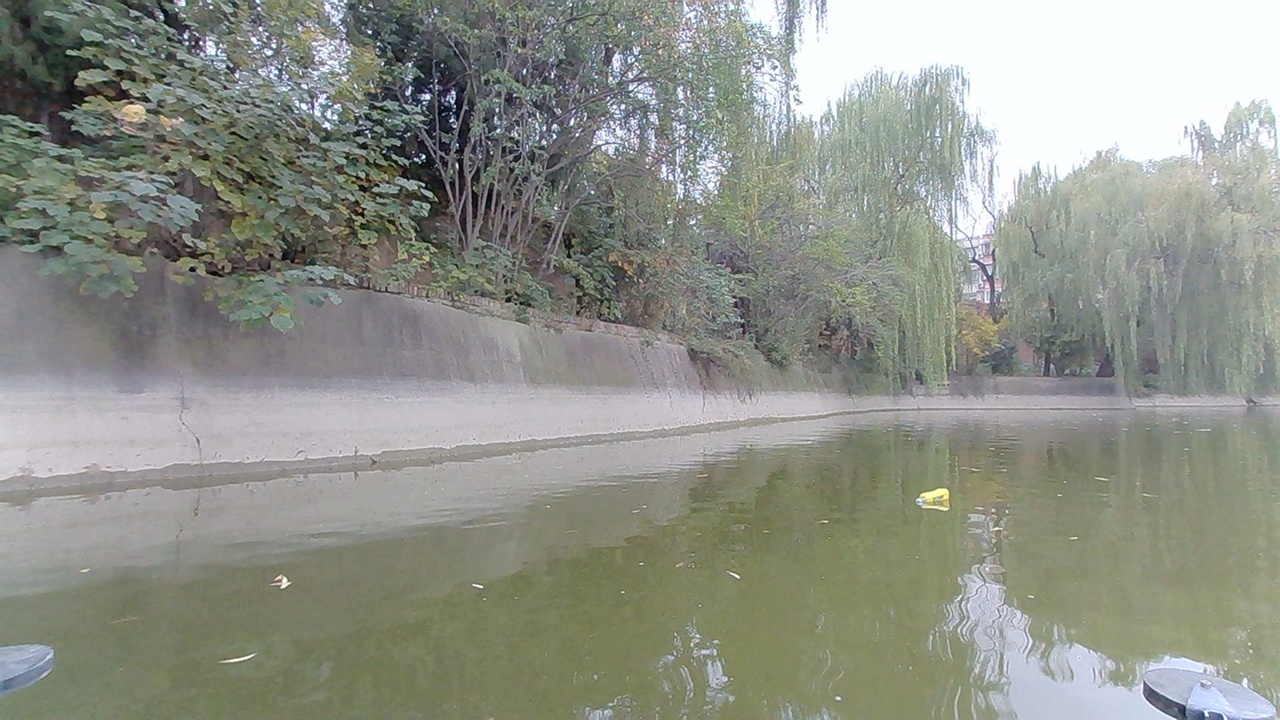bottle: (920, 487, 954, 510)
